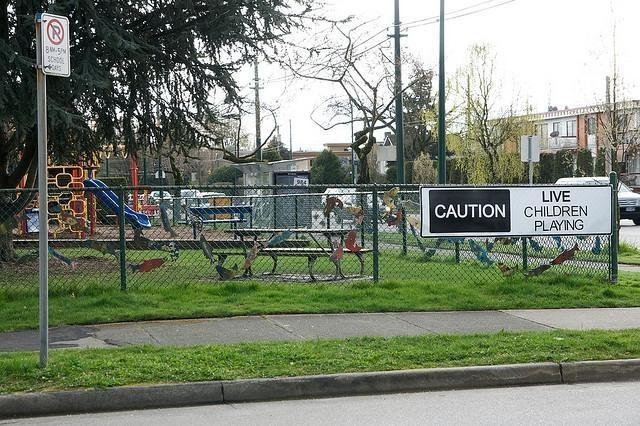car: (556, 176, 640, 226), (334, 192, 394, 225), (189, 192, 226, 207), (148, 190, 174, 206), (172, 189, 200, 199)
